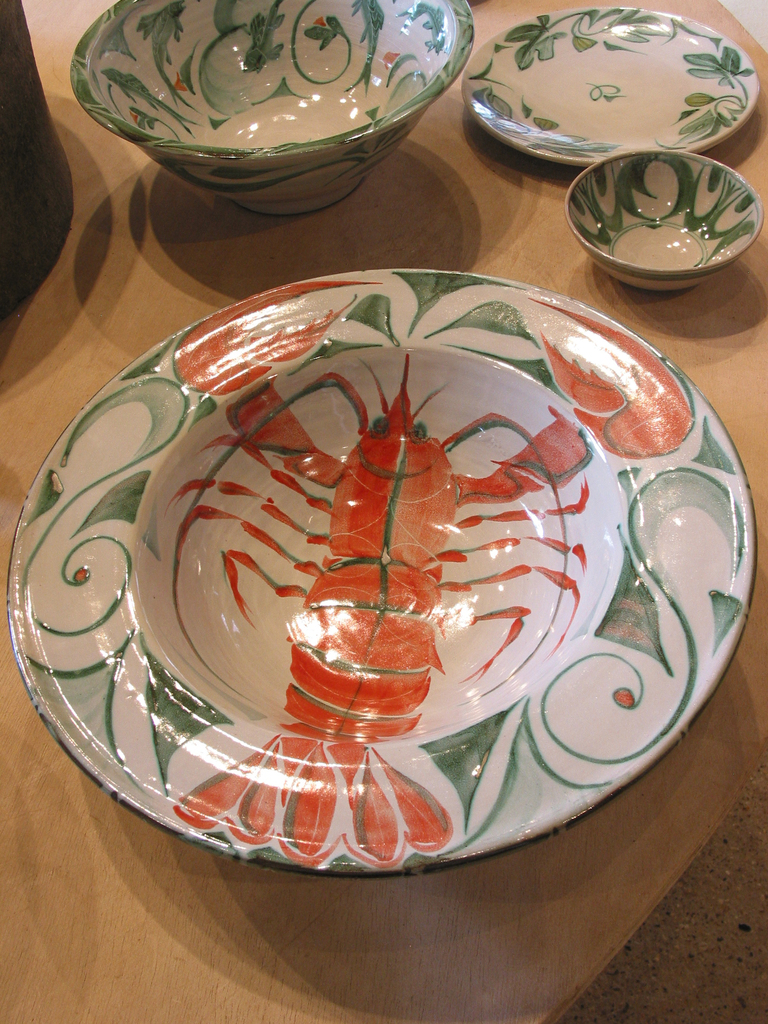plate: (7, 272, 759, 879)
